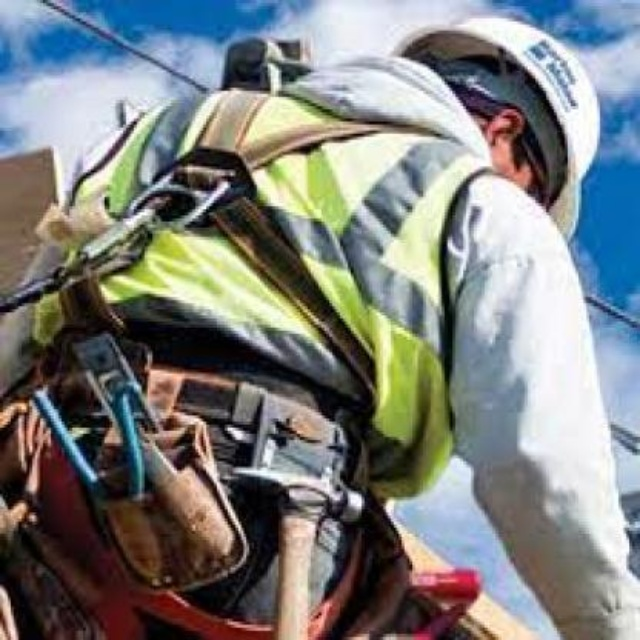Arnes_seguridad: (48, 78, 426, 640)
